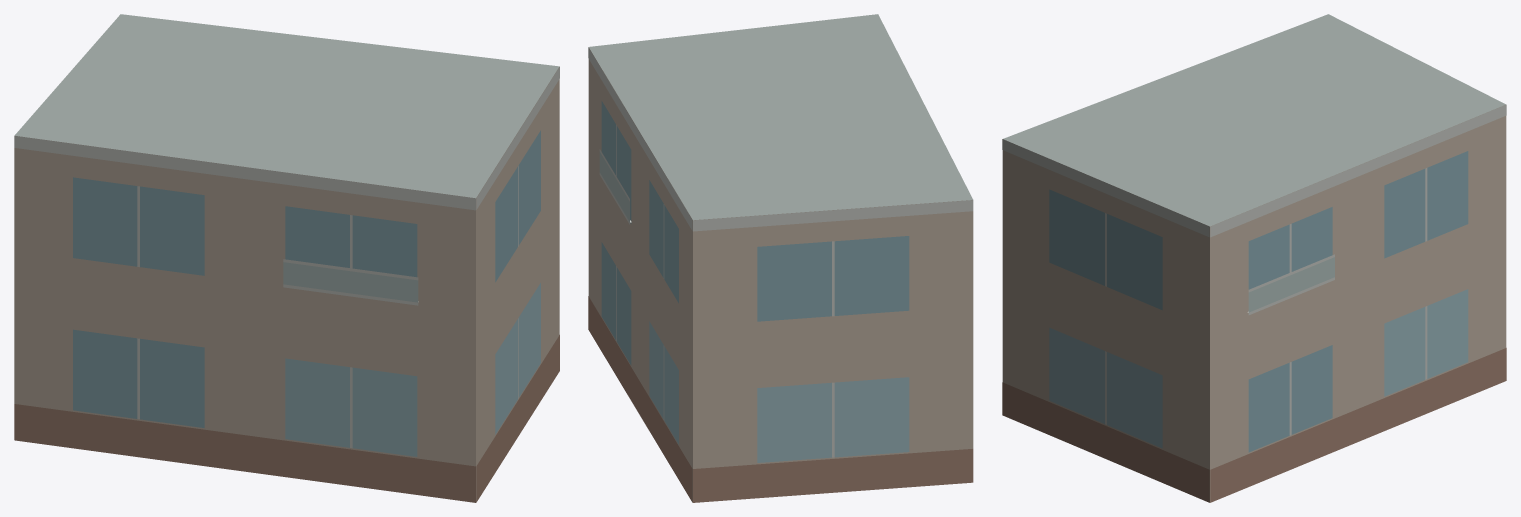
Rendered from survey-upis-32721884.glb.
3 views of the same model, side by side, from view 1: azimuth 30°, elevation 25°; view 2: azimuth 150°, elevation 25°; view 3: azimuth 270°, elevation 25° (orthographic). The views are drawn at different scales.
Visible parts, largest first — view 1: survey-upis-32721884.tmp; view 2: survey-upis-32721884.tmp; view 3: survey-upis-32721884.tmp.
Part boxes in pixels (x1,y1,x2,y2): survey-upis-32721884.tmp: (14,14,559,502); survey-upis-32721884.tmp: (588,14,973,502); survey-upis-32721884.tmp: (1002,14,1506,502).
Size of the model in its own units: 10.07 by 6.1 by 10.09.
